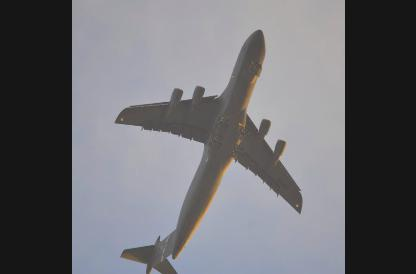C17: (112, 30, 302, 273)
